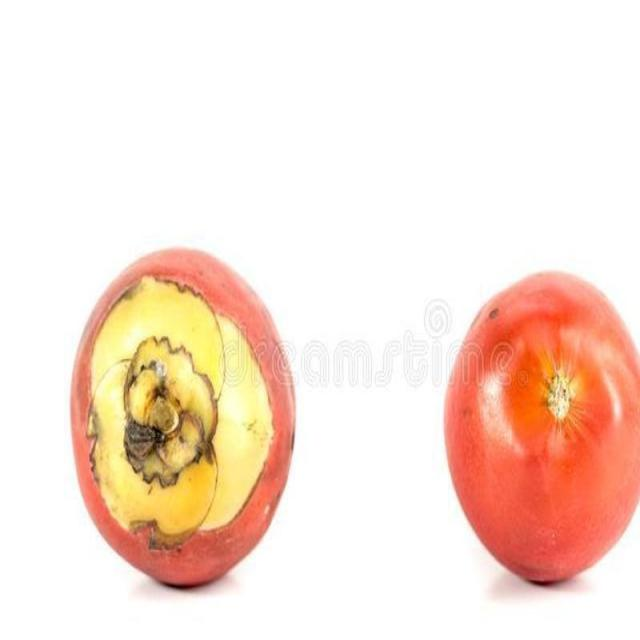good: (70, 255, 295, 592), (442, 270, 639, 587)
